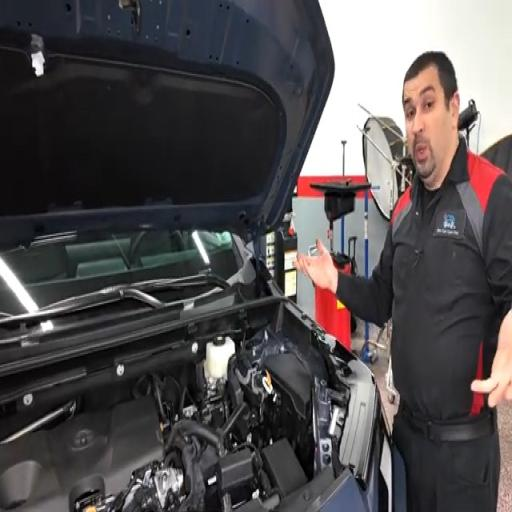hood: (0, 0, 334, 244)
window: (0, 231, 239, 307)
windshield: (0, 231, 240, 314)
